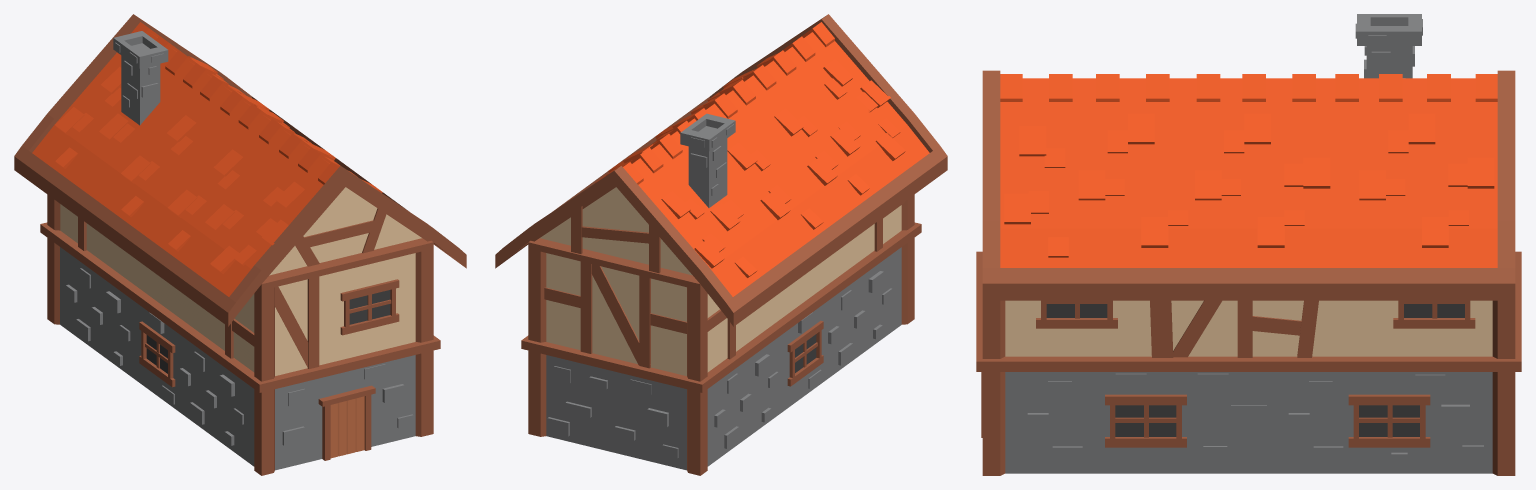
The model's file is HouseLong.fbx.
3 views of the same model, side by side, from view 1: azimuth 30°, elevation 25°; view 2: azimuth 150°, elevation 25°; view 3: azimuth 270°, elevation 25° (orthographic). The views are drawn at different scales.
Visible parts, largest first — view 1: HouseLong; view 2: HouseLong; view 3: HouseLong.
Part boxes in pixels (x1=…): HouseLong: x1=14, y1=14, x2=466, y2=475; HouseLong: x1=495, y1=14, x2=947, y2=475; HouseLong: x1=976, y1=14, x2=1521, y2=475.
Bounding box in the file's own units: 1015 × 1228 × 1619.
